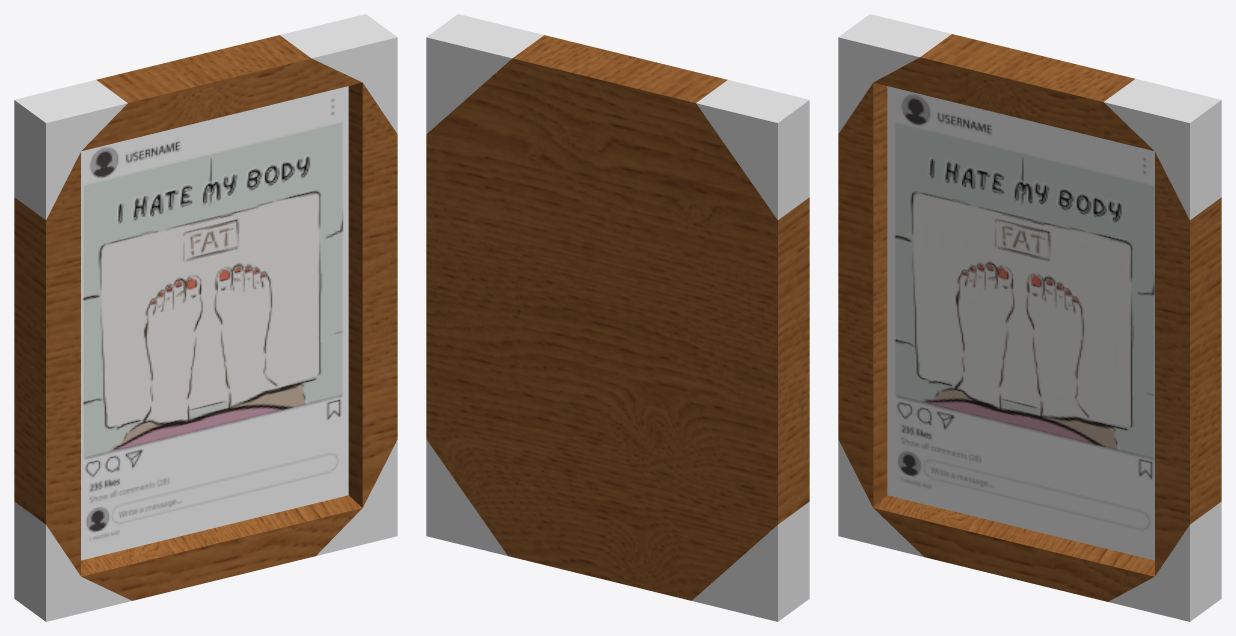
The model's file is NegativeFrame4.fbx.
3 renders of one model, left to right at view 1: azimuth 30°, elevation 25°; view 2: azimuth 150°, elevation 25°; view 3: azimuth 330°, elevation 25°, orthographic.
Parts seen in each view (by area): view 1: pCube214; view 2: pCube214; view 3: pCube214.
Part boxes in pixels (box(x1,y1,x2,y2)): pCube214: box(14, 14, 397, 621); pCube214: box(426, 14, 809, 621); pCube214: box(838, 14, 1221, 621).
Size of the model in its own units: 0.8624 by 1.17 by 0.1355.
